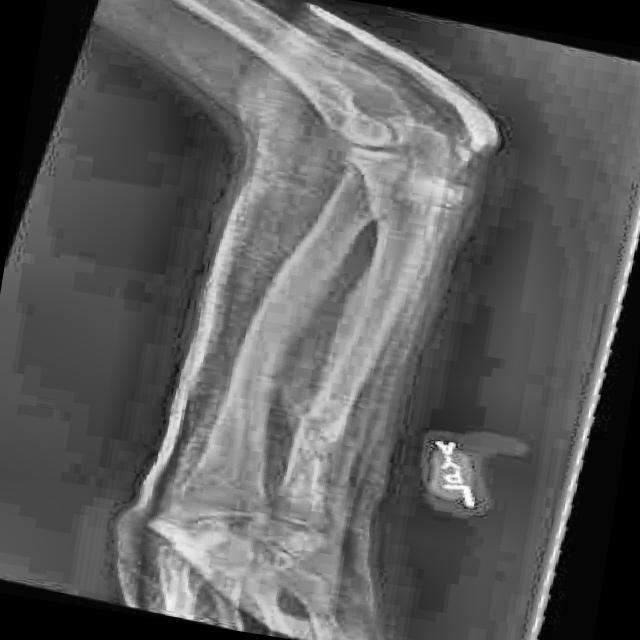forearm fracture: (267, 380, 380, 487)
